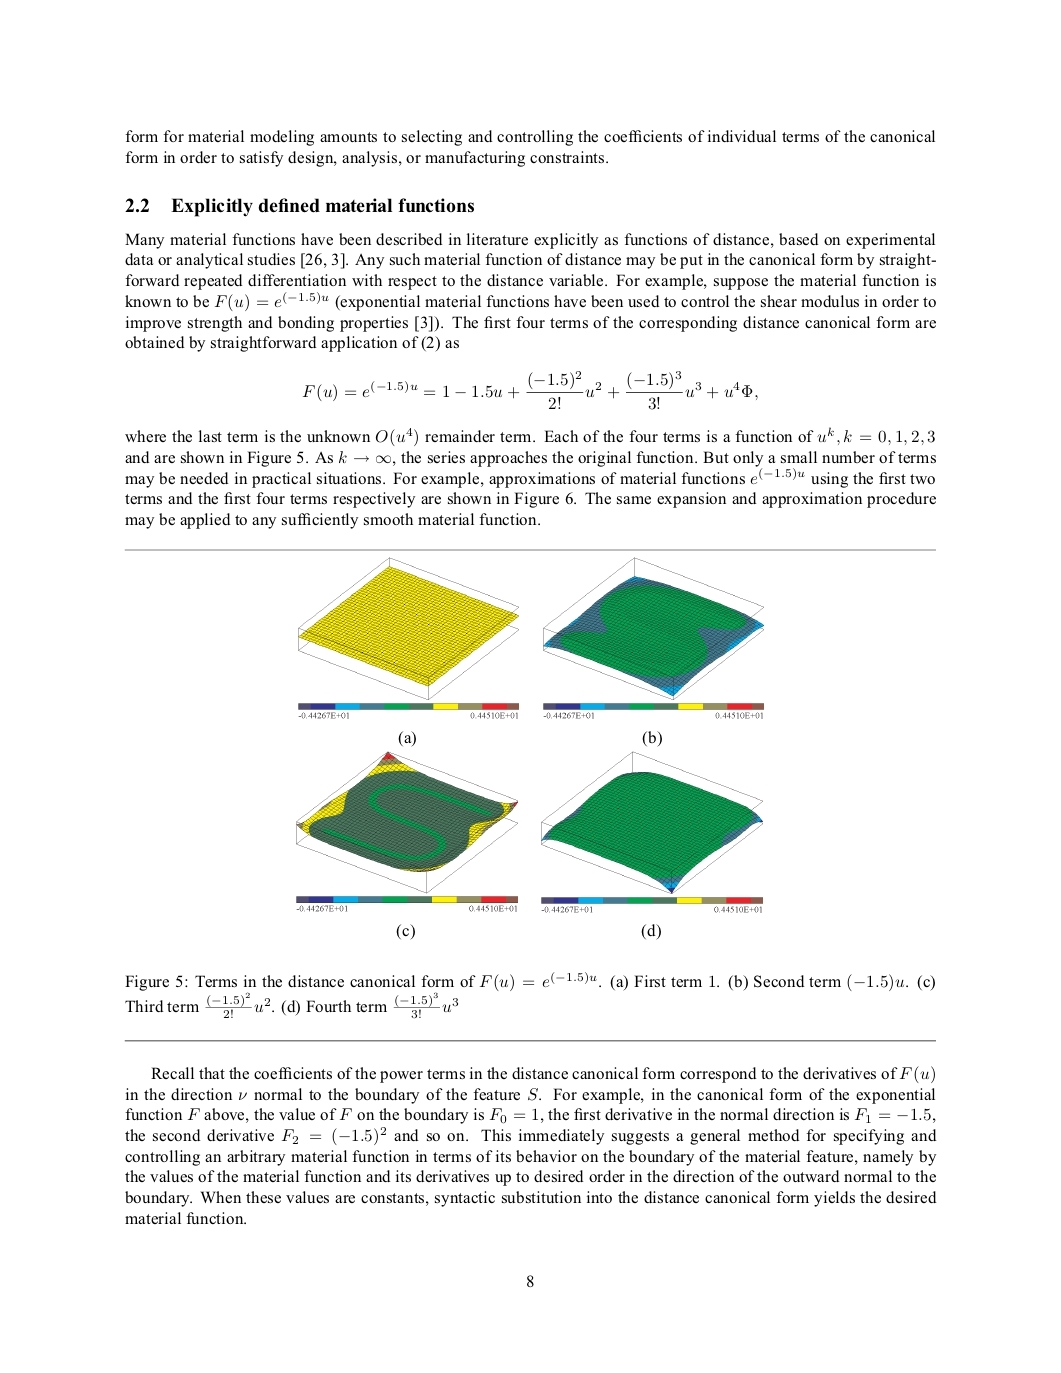figure: (541, 750, 762, 913), (296, 750, 517, 912), (298, 556, 518, 700), (543, 556, 763, 700), (298, 702, 518, 719), (543, 702, 763, 719), (124, 1039, 935, 1042), (124, 548, 935, 551)
formula: (302, 370, 757, 410)
